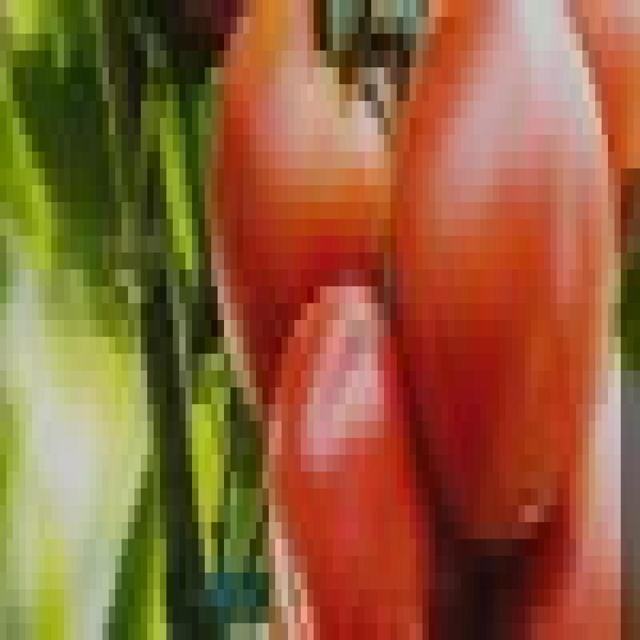Healthy Fruit: (126, 102, 340, 343)
